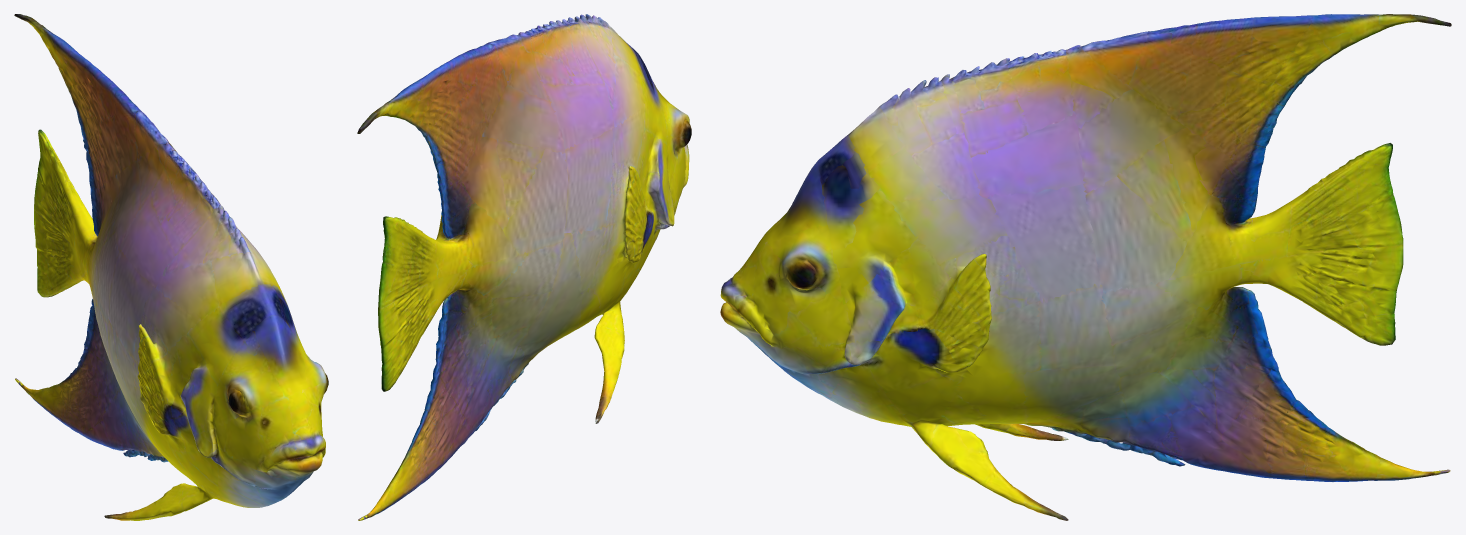
The picture shows the model from 3 angles, left to right: view 1: azimuth 30°, elevation 25°; view 2: azimuth 150°, elevation 25°; view 3: azimuth 270°, elevation 25°; orthographic projection. The views are drawn at different scales.
Bounding box in the file's own units: 0.5009 × 1.34 × 1.9.
Materials: 1 (1 with a texture image).
